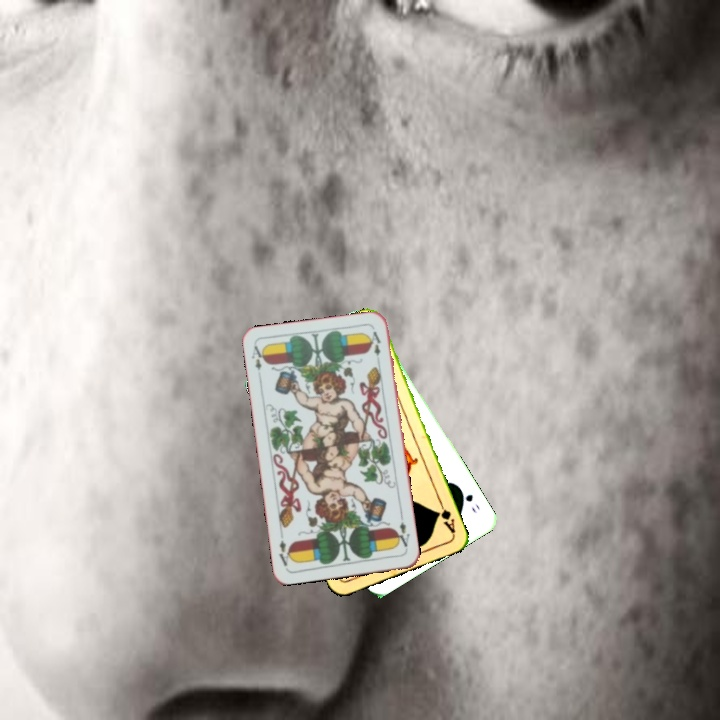EA: (247, 342, 268, 382), (392, 518, 413, 552)
GA: (433, 497, 458, 536)
GO: (455, 484, 482, 516)
